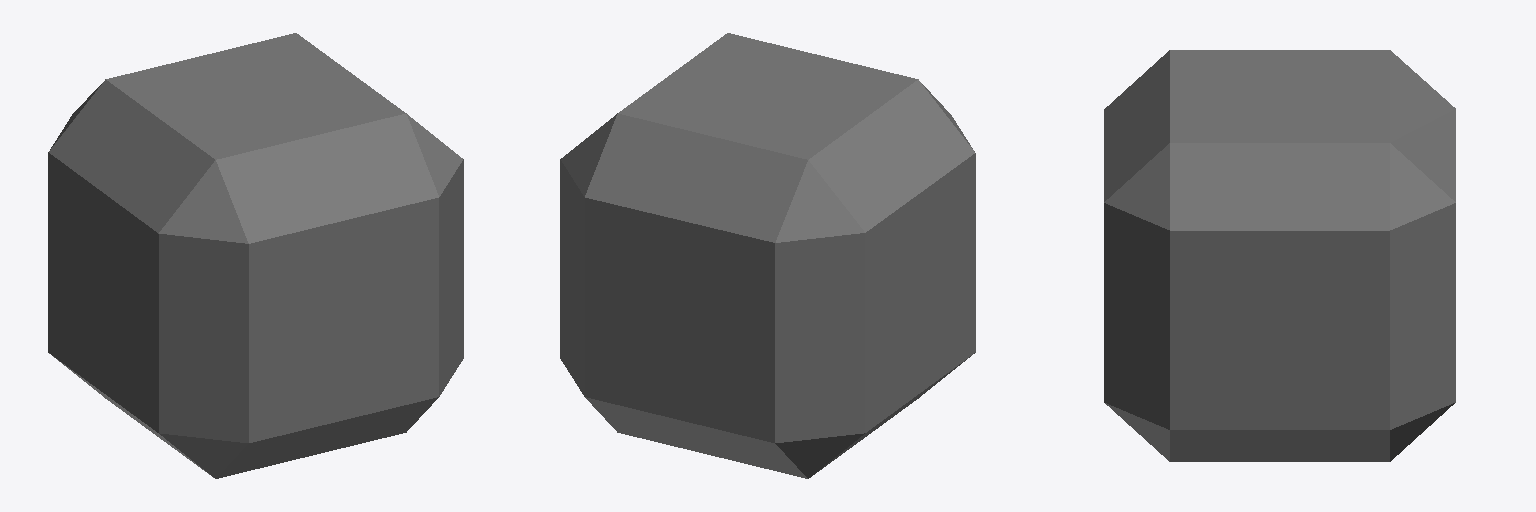
File: single.obj
3 views of the same model, side by side, from view 1: azimuth 30°, elevation 25°; view 2: azimuth 150°, elevation 25°; view 3: azimuth 270°, elevation 25° (orthographic).
Bounding box in the file's own units: 1 × 1 × 1.